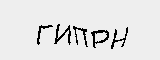Г: (31, 22, 52, 46)
И: (53, 22, 71, 46)
Н: (109, 27, 129, 49)
П: (71, 26, 90, 46)
Р: (89, 26, 110, 49)
